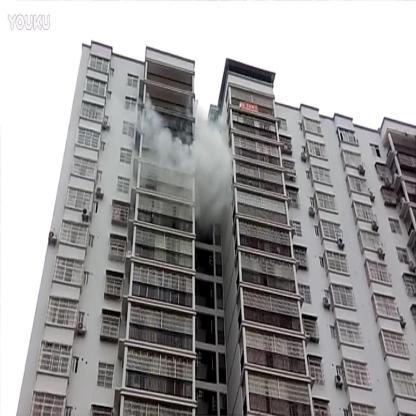smoke: (180, 117, 233, 230), (140, 92, 178, 184)
